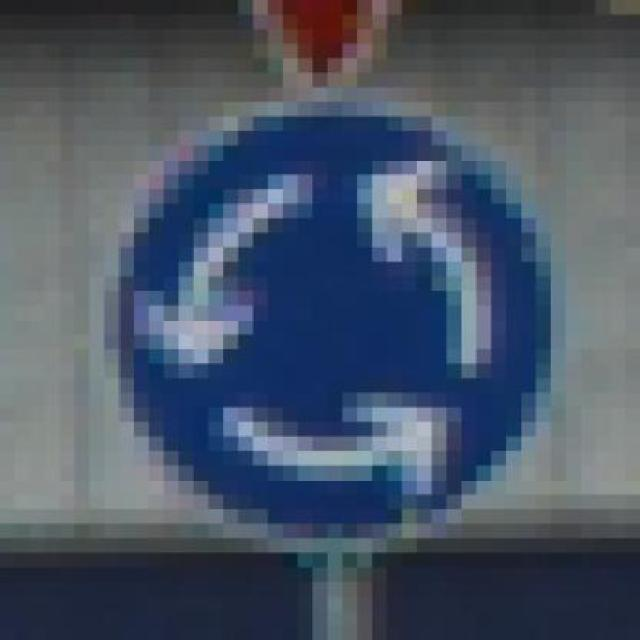Round-About: (74, 87, 580, 567)
